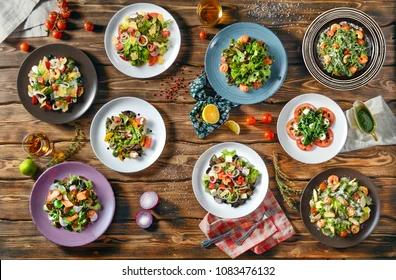Braised Crucian Carp: (28, 161, 113, 246), (301, 7, 386, 91), (203, 21, 287, 104), (299, 166, 382, 248), (16, 42, 97, 122), (103, 1, 180, 79), (191, 142, 269, 218), (89, 96, 165, 172), (277, 92, 347, 164)
